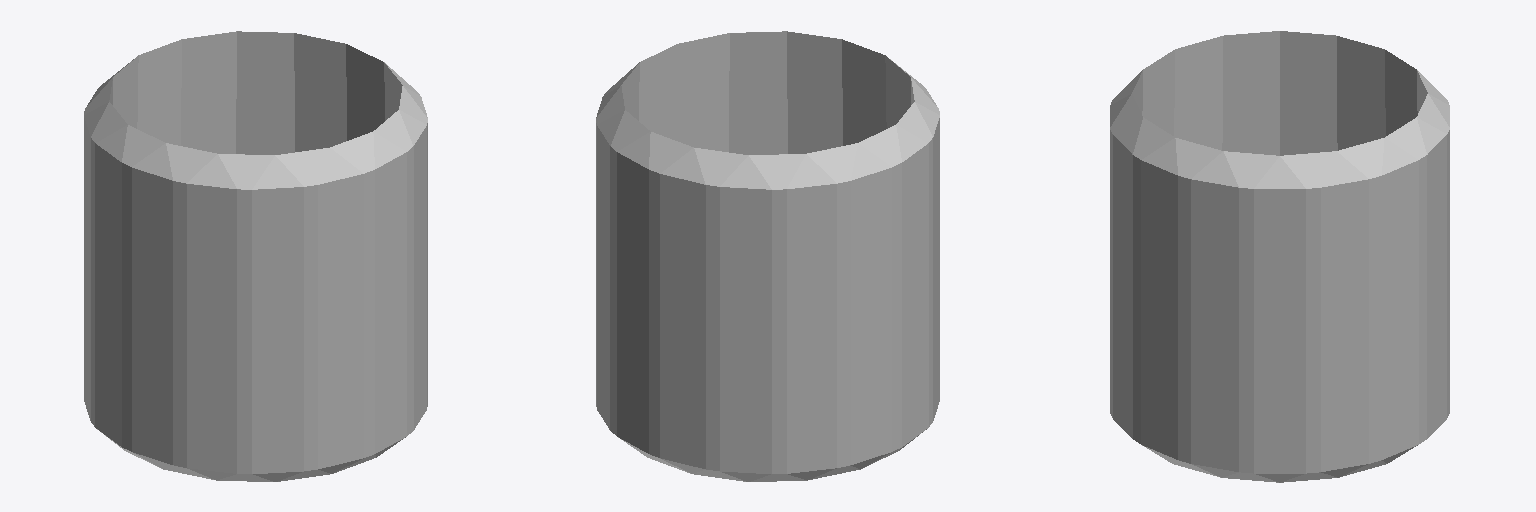
File: verre.obj
3 views of the same model, side by side, from view 1: azimuth 30°, elevation 25°; view 2: azimuth 150°, elevation 25°; view 3: azimuth 270°, elevation 25° (orthographic).
Visible parts, largest first — view 1: Cylinder1; view 2: Cylinder1; view 3: Cylinder1.
Boxes of the visible parts, <box> form: Cylinder1: <box>84,31,427,481</box>; Cylinder1: <box>596,31,939,481</box>; Cylinder1: <box>1110,31,1449,482</box>.
Size of the model in its own units: 1.95 by 2.06 by 1.95.